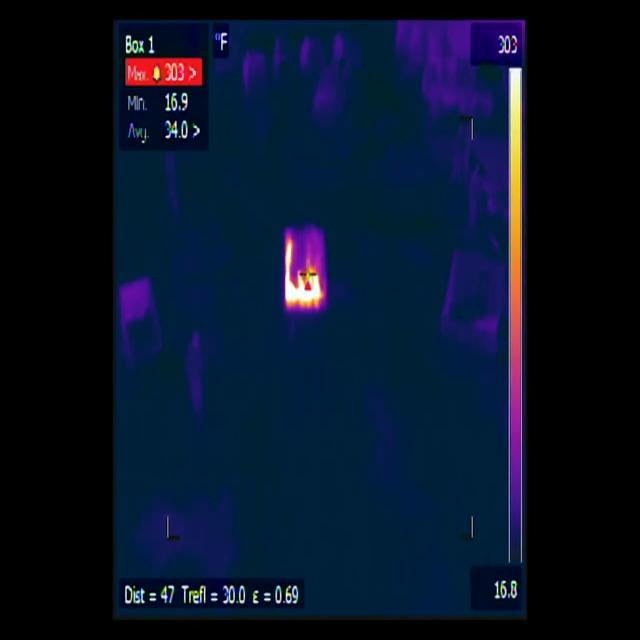fire: (285, 232, 327, 313)
